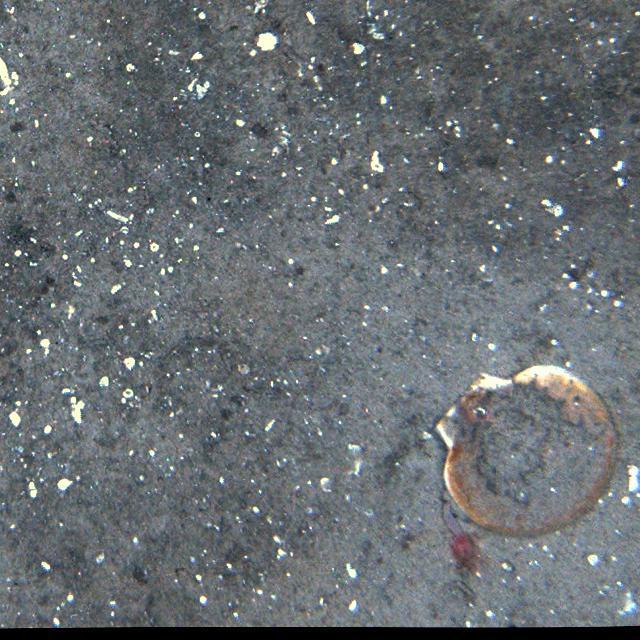scallop: (436, 364, 620, 539)
